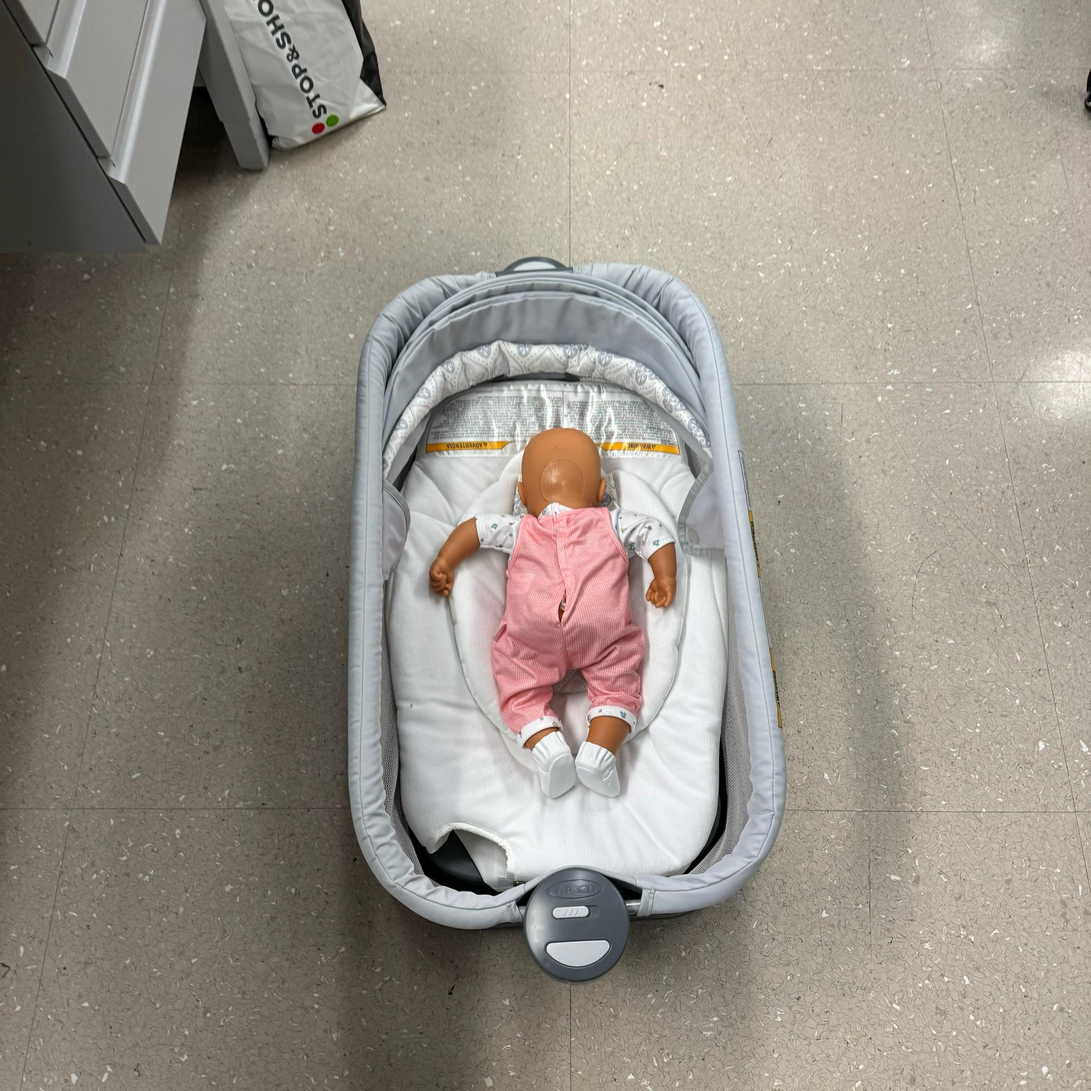baby: (420, 421, 694, 805)
